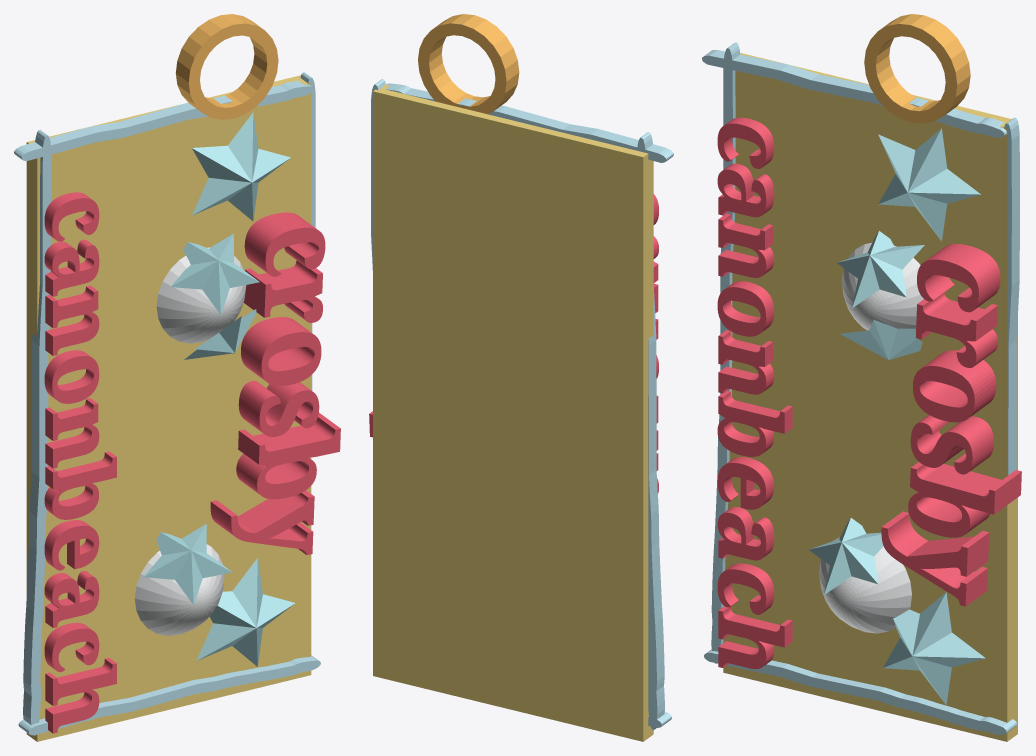
Rendered from CrosbyNameTag.gltf.
The picture shows the model from 3 angles, left to right: view 1: azimuth 30°, elevation 25°; view 2: azimuth 150°, elevation 25°; view 3: azimuth 330°, elevation 25°; orthographic projection. The views are drawn at different scales.
Visible parts, largest first — view 1: group_0_14789940, group_0_15277357, group_0_8768998, group_0_7720667, group_0_14541540, group_0_16089887; view 2: group_0_14789940, group_0_8768998, group_0_16089887, group_0_15277357; view 3: group_0_14789940, group_0_15277357, group_0_7720667, group_0_8768998, group_0_14541540, group_0_16089887.
Part boxes in pixels (x1,y1,x2,y2): group_0_14789940: [26, 75, 311, 741]; group_0_15277357: [44, 192, 340, 733]; group_0_8768998: [14, 72, 320, 735]; group_0_7720667: [143, 112, 295, 666]; group_0_14541540: [134, 247, 246, 635]; group_0_16089887: [175, 14, 278, 119]; group_0_14789940: [373, 84, 653, 741]; group_0_8768998: [371, 79, 673, 730]; group_0_16089887: [418, 14, 519, 114]; group_0_15277357: [369, 194, 658, 492]; group_0_14789940: [723, 53, 1017, 741]; group_0_15277357: [717, 117, 1021, 669]; group_0_7720667: [809, 128, 985, 704]; group_0_8768998: [702, 42, 1019, 734]; group_0_14541540: [819, 243, 923, 633]; group_0_16089887: [864, 14, 970, 123].
Bounding box in the file's own units: 67 × 144 × 15.5.
